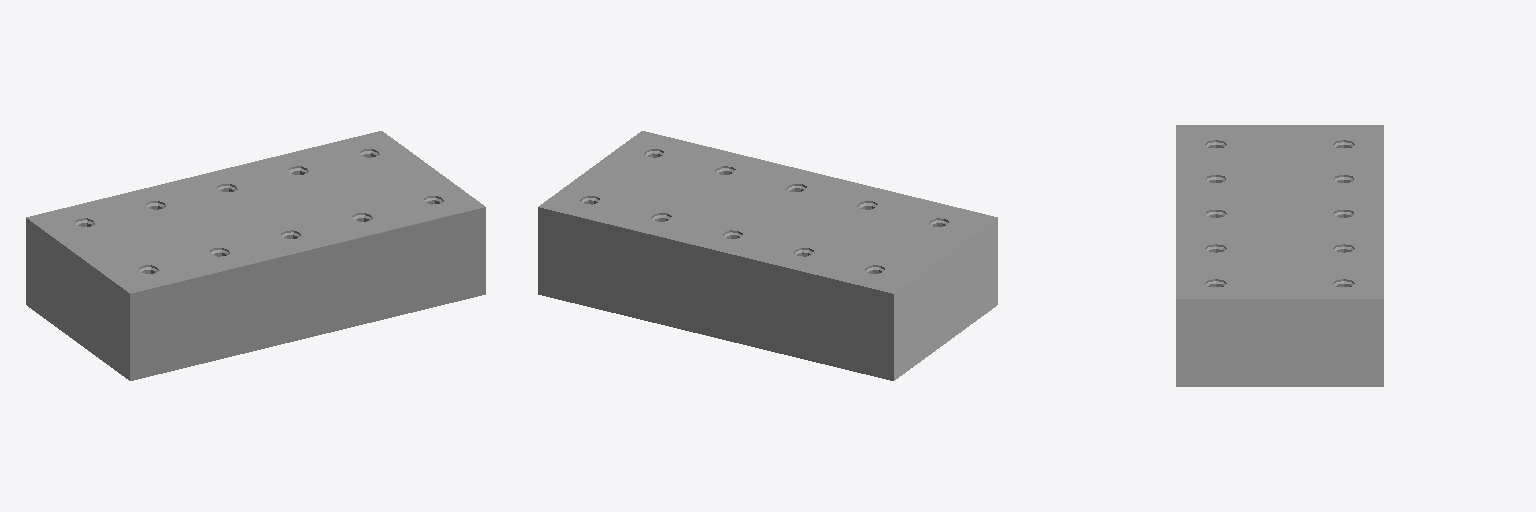
File: hall.obj
The picture shows the model from 3 angles: view 1: azimuth 30°, elevation 25°; view 2: azimuth 150°, elevation 25°; view 3: azimuth 270°, elevation 25°; orthographic projection.
Parts seen in each view (by area): view 1: Cube_Room, Plane_Plane.001; view 2: Cube_Room, Plane_Plane.001; view 3: Cube_Room, Plane_Plane.001.
Boxes of the visible parts, box(x1,y1,x2,y2) form: Cube_Room: box(26, 131, 485, 380); Plane_Plane.001: box(26, 218, 129, 380); Cube_Room: box(538, 131, 997, 380); Plane_Plane.001: box(894, 218, 997, 380); Cube_Room: box(1176, 125, 1383, 298); Plane_Plane.001: box(1176, 299, 1383, 386).
Size of the model in its own units: 34.23 by 8.05 by 17.39.